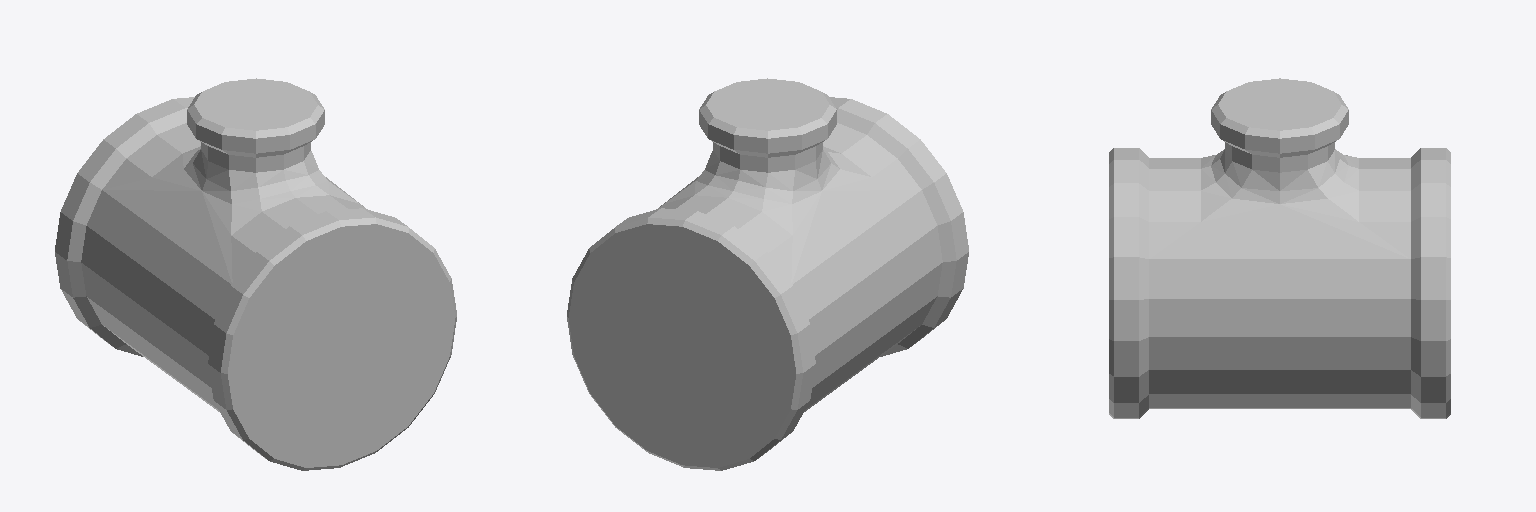
The model's file is Pipe_s.obj.
3 renders of one model, left to right at view 1: azimuth 30°, elevation 25°; view 2: azimuth 150°, elevation 25°; view 3: azimuth 270°, elevation 25°, orthographic.
Visible parts, largest first — view 1: Pipe_s; view 2: Pipe_s; view 3: Pipe_s.
Boxes of the visible parts, <box> form: Pipe_s: <box>55,78,456,470</box>; Pipe_s: <box>567,78,968,470</box>; Pipe_s: <box>1109,78,1450,418</box>.
Bounding box in the file's own units: 0.054 × 0.066 × 0.0676.